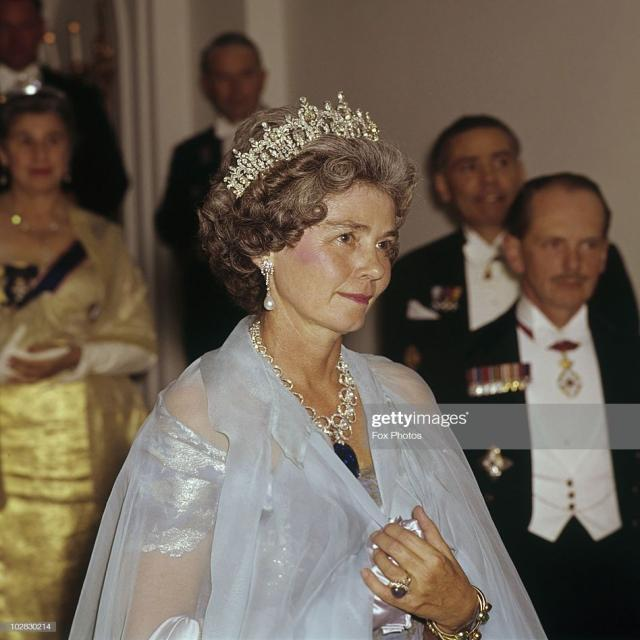Earring: (252, 253, 285, 319)
